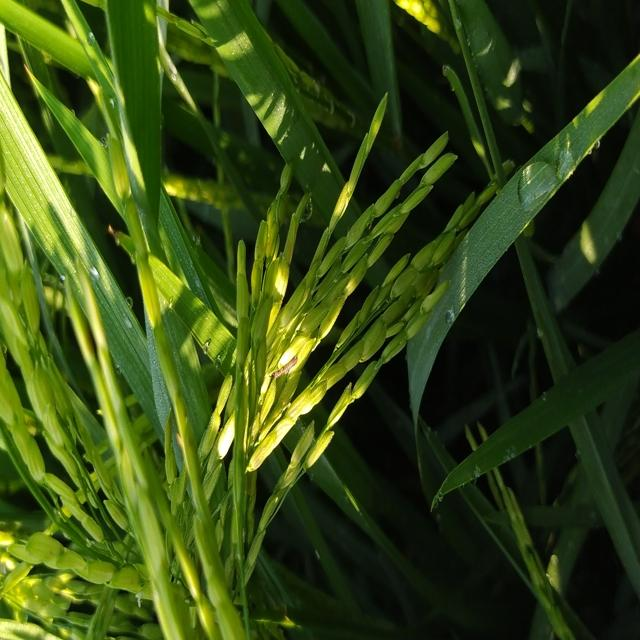Brown spot: (91, 217, 131, 243), (389, 130, 405, 156)
